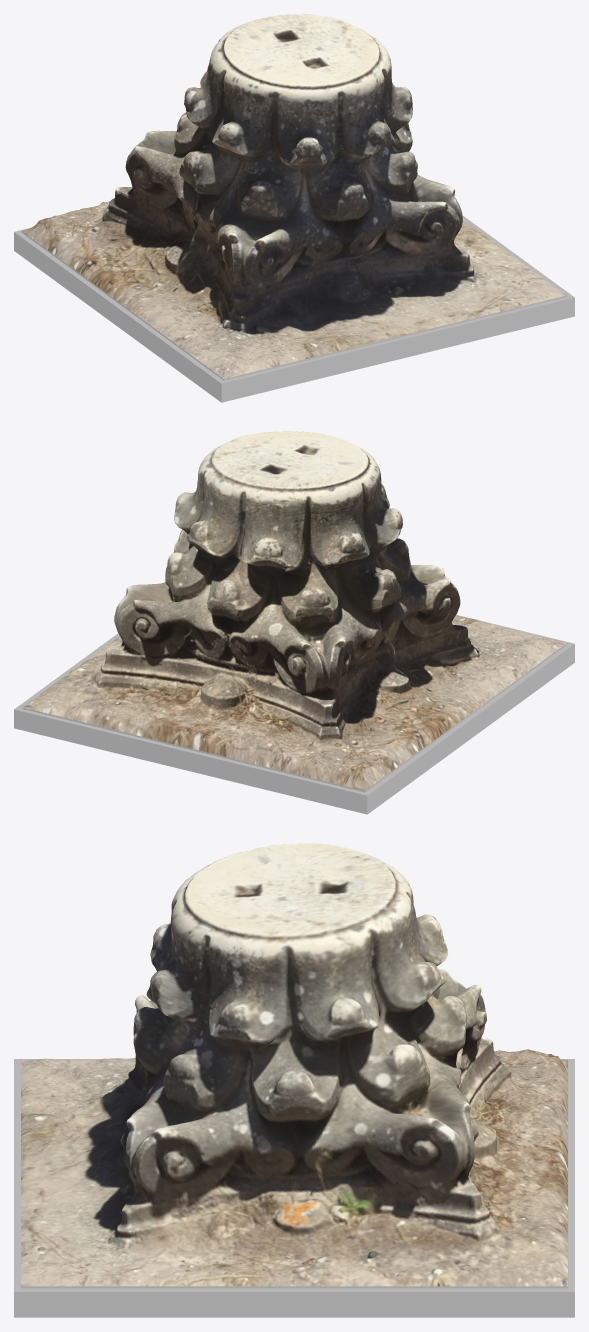
The model's file is capitel.glb.
The picture shows the model from 3 angles, top to bottom: view 1: azimuth 30°, elevation 25°; view 2: azimuth 150°, elevation 25°; view 3: azimuth 270°, elevation 25°; orthographic projection. The views are drawn at different scales.
Visible parts, largest first — view 1: Object_3, Object_4, Object_2; view 2: Object_4, Object_3, Object_2; view 3: Object_4, Object_3, Object_2.
Boxes of the visible parts, x1,y1,x2,y2 form: Object_3: (59,67,458,378); Object_4: (22,14,566,347); Object_2: (14,215,574,402); Object_4: (22,431,524,790); Object_3: (60,431,566,762); Object_2: (14,615,574,814); Object_4: (21,843,567,1286); Object_3: (21,874,567,1260); Object_2: (14,1059,574,1317).
Bounding box in the file's own units: 35.13 × 22.6 × 35.73.
3 materials, 2 textured.
